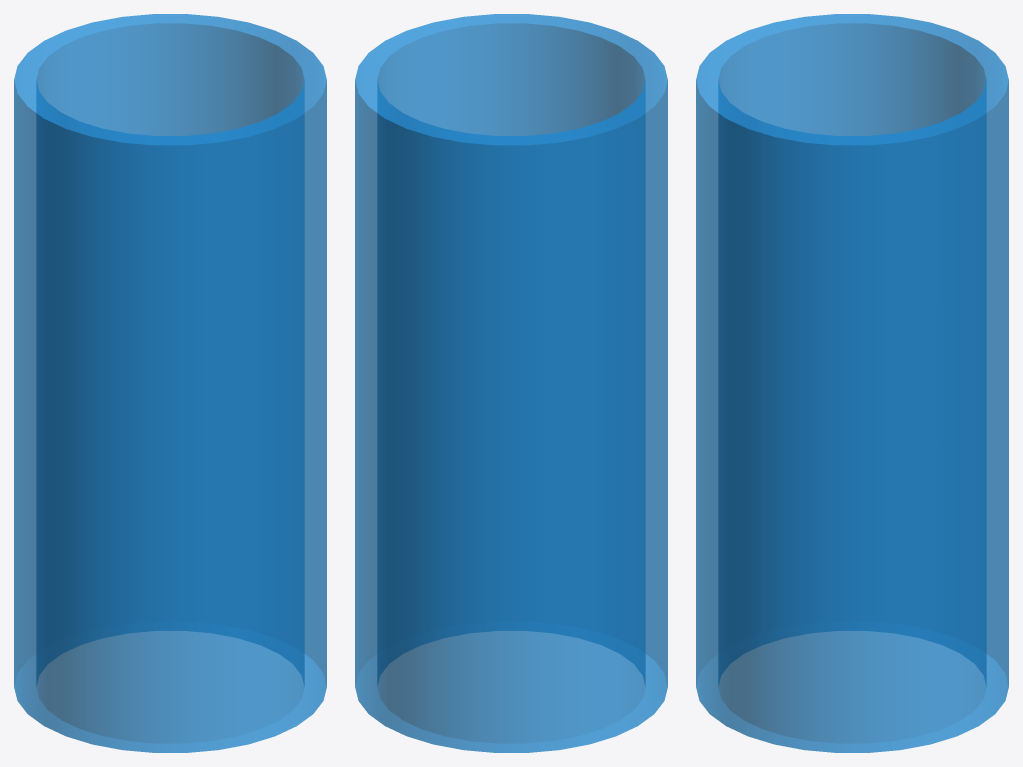
File: boli04.dae
The picture shows the model from 3 angles, left to right: view 1: azimuth 30°, elevation 25°; view 2: azimuth 150°, elevation 25°; view 3: azimuth 270°, elevation 25°; orthographic projection.
Visible parts, largest first — view 1: Tube002; view 2: Tube002; view 3: Tube002.
Boxes of the visible parts, x1=… form: Tube002: x1=14, y1=14, x2=326, y2=752; Tube002: x1=355, y1=14, x2=667, y2=752; Tube002: x1=696, y1=14, x2=1008, y2=752.
Size of the model in its own units: 13.92 by 14 by 30.
